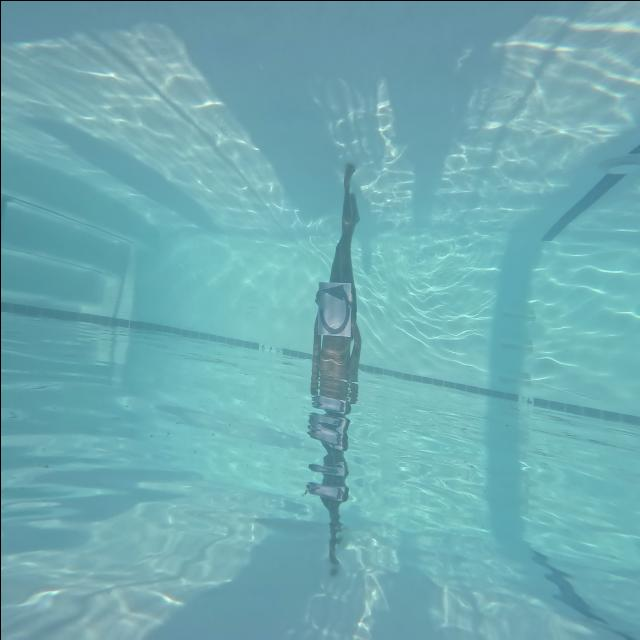blue_side: (316, 278, 352, 336)
